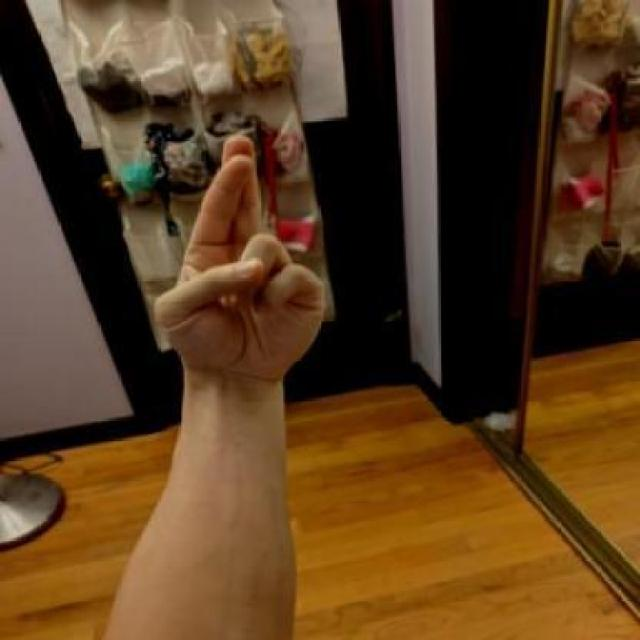R: (146, 127, 337, 390)
